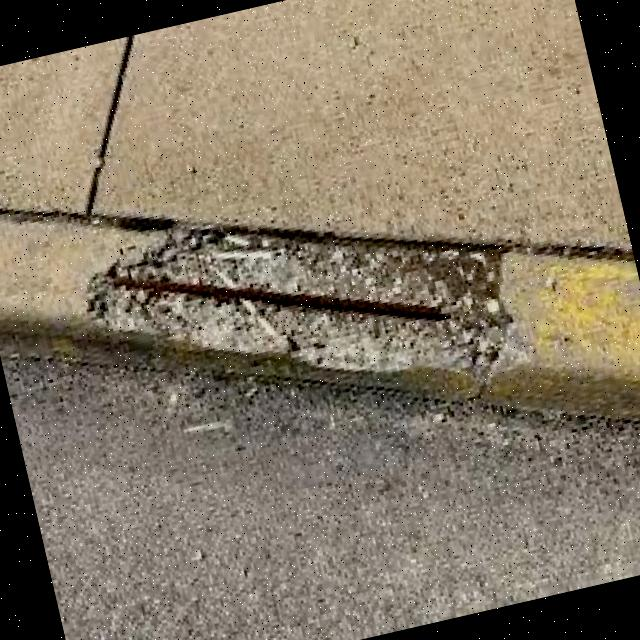curb: (1, 72, 640, 552)
